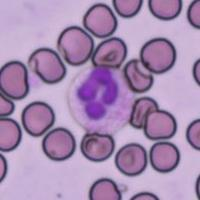N: (68, 66, 134, 134)
